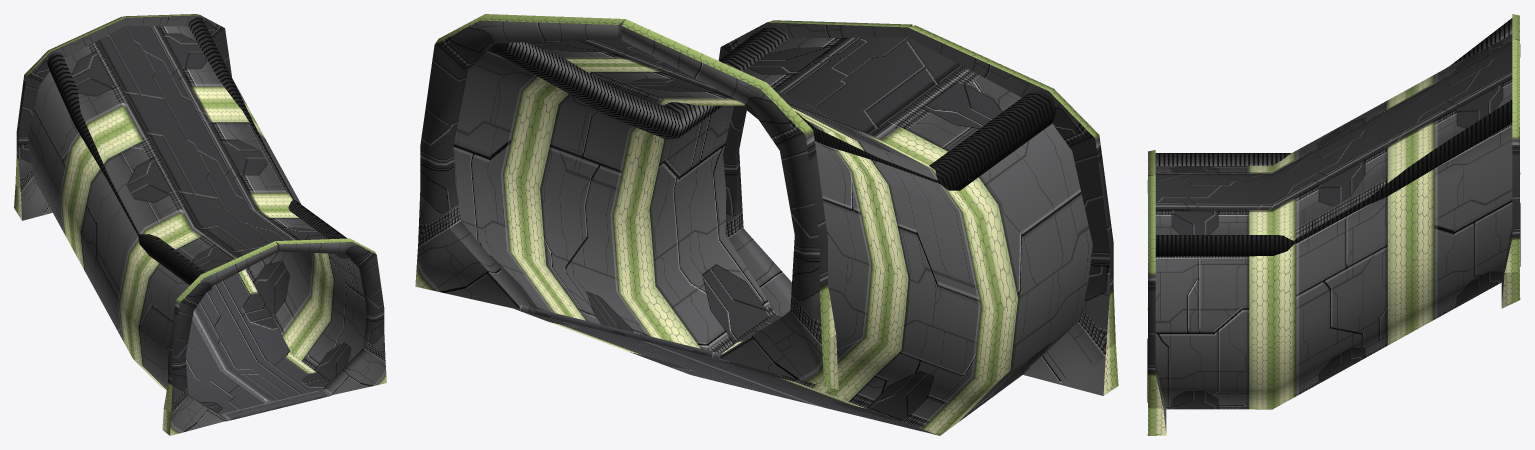
The model's file is Tunnel ramp 01.fbx.
The picture shows the model from 3 angles, left to right: view 1: azimuth 30°, elevation 25°; view 2: azimuth 150°, elevation 25°; view 3: azimuth 270°, elevation 25°; orthographic projection. The views are drawn at different scales.
Visible parts, largest first — view 1: Tunnel ramp 01; view 2: Tunnel ramp 01; view 3: Tunnel ramp 01.
Boxes of the visible parts, x1,y1,x2,y2 form: Tunnel ramp 01: (14, 14, 386, 435); Tunnel ramp 01: (415, 14, 1118, 435); Tunnel ramp 01: (1147, 14, 1520, 435).
Size of the model in its own units: 389 by 479 by 486.
